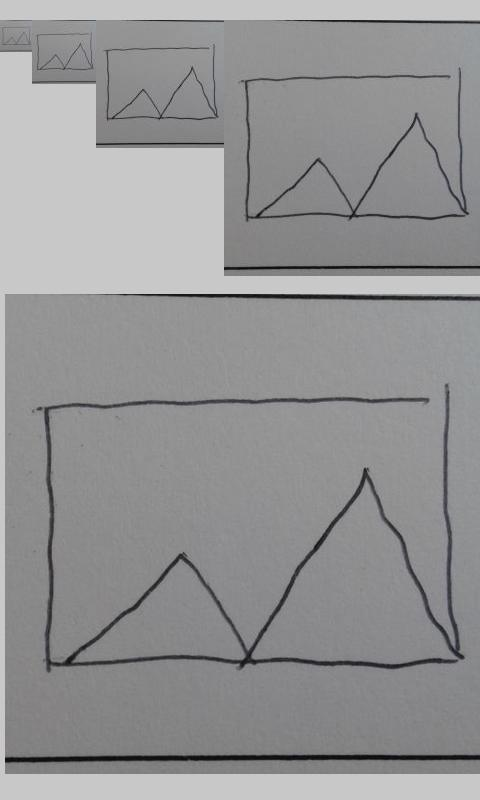image_view: (40, 385, 462, 680), (242, 70, 469, 224), (104, 45, 220, 123), (35, 32, 94, 72), (1, 26, 31, 46)
